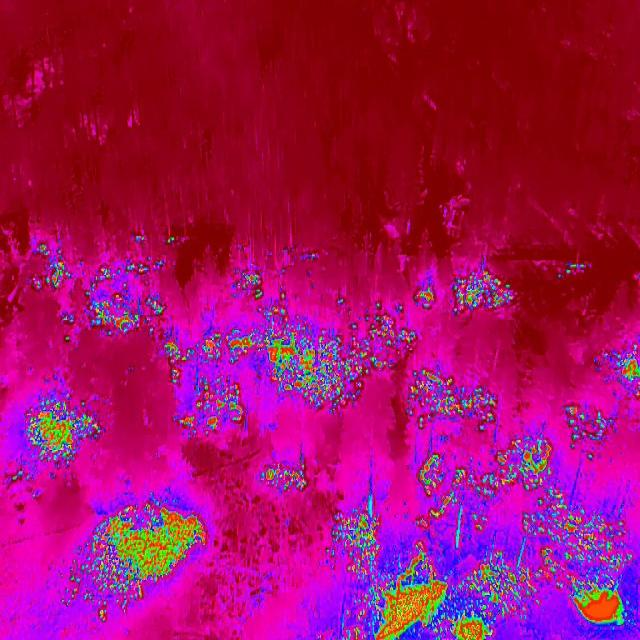fire: (164, 302, 419, 448), (64, 497, 208, 622), (412, 427, 562, 538), (523, 492, 632, 634), (347, 542, 452, 638), (16, 387, 106, 485), (405, 363, 504, 435), (457, 547, 532, 613), (448, 261, 530, 319), (556, 397, 622, 465), (78, 296, 168, 344), (330, 503, 384, 578), (89, 258, 174, 292), (26, 238, 73, 294), (258, 454, 316, 498), (276, 240, 324, 278), (444, 611, 506, 640), (605, 343, 640, 392), (232, 262, 270, 300), (552, 256, 594, 282), (414, 283, 437, 313), (162, 232, 185, 249)
